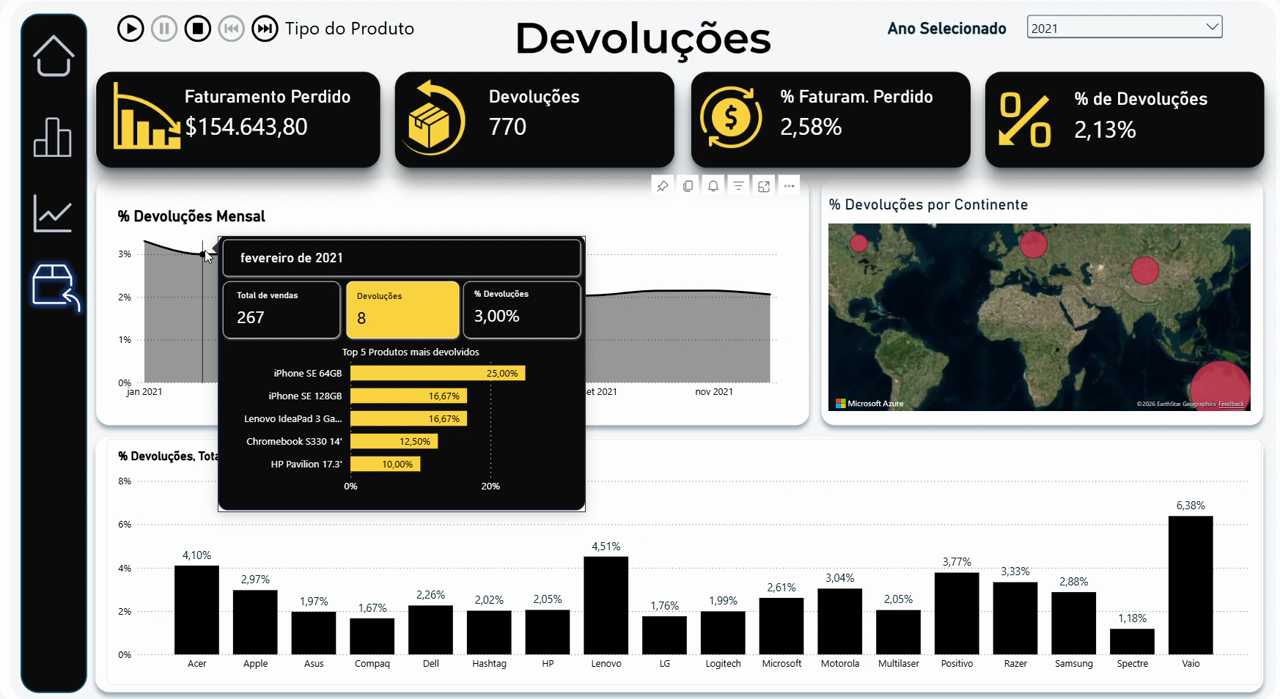

What the dashboard file says about the page in this screenshot:
{"tool":"powerbi","page":{"name":"Devoluções","canvas":[1920,1080],"ordinal":3},"visuals":[{"type":"multiRowCard","title":"Faturamento Perdido","fields":{"Values":["Medidas.Faturamento Perdido"]},"box":[262,130,300,124],"z":0},{"type":"multiRowCard","title":"Devoluções","fields":{"Values":["Sum(fDevoluções.Qtd Devolvida)"]},"box":[714,130,276,116],"z":1000},{"type":"multiRowCard","title":"% Faturam. Perdido","fields":{"Values":["Medidas.% Faturamento Perdido"]},"box":[1148,130,276,116],"z":2000},{"type":"multiRowCard","title":"% de Devoluções","fields":{"Values":["Medidas.% Devoluções"]},"box":[1586,134,276,116],"z":3000},{"type":"areaChart","title":"% Devoluções Mensal","fields":{"Category":["dCalendario.Inicio do Mês"],"Y":["Medidas.% Devoluções"]},"box":[162,310,1032,320],"z":4000},{"type":"azureMap","title":"% Devoluções por Continente","fields":{"Category":["dLojas.Continente"],"Size":["Medidas.% Devoluções"]},"box":[1220,292,660,352],"z":5000},{"type":"columnChart","fields":{"Category":["dProdutos.Marca","dProdutos.Tipo do Produto","dProdutos.Nome Produto"],"Y":["Medidas.% Devoluções"]},"box":[162,670,1718,366],"z":6000},{"type":"slicer","fields":{"Values":["dCalendario.Ano"]},"box":[1527.4,34.4,300.4,48.9],"z":7000},{"type":"textbox","box":[1324.7,43.4,199.1,30.8],"z":8000},{"type":"PBI_CV_16948668_E17D_454B_8664_2F2C470EA8C1","fields":{"category":["dProdutos.Tipo do Produto"]},"box":[162.9,5.4,483.2,108.6],"z":9000},{"type":"actionButton","box":[32.6,48.9,97.7,85.1],"z":10000},{"type":"actionButton","box":[32.6,173.7,97.7,81.4],"z":11000},{"type":"actionButton","box":[32.6,291.4,97.7,81.4],"z":12000}]}

Visuals, with their boxes on the page's 1920x1080 design canvas (x1, y1, x2, y2). These are canvas units, not pixel positions in the 1280x699 screenshot, which may show the page scaled, cropped or inside an application window:
"Faturamento Perdido" multiRowCard: [left=262, top=130, right=562, bottom=254]
"Devoluções" multiRowCard: [left=714, top=130, right=990, bottom=246]
"% Faturam. Perdido" multiRowCard: [left=1148, top=130, right=1424, bottom=246]
"% de Devoluções" multiRowCard: [left=1586, top=134, right=1862, bottom=250]
"% Devoluções Mensal" areaChart: [left=162, top=310, right=1194, bottom=630]
"% Devoluções por Continente" azureMap: [left=1220, top=292, right=1880, bottom=644]
columnChart - dProdutos.Marca x dProdutos.Tipo do Produto: [left=162, top=670, right=1880, bottom=1036]
slicer - dCalendario.Ano: [left=1527, top=34, right=1828, bottom=83]
textbox: [left=1325, top=43, right=1524, bottom=74]
PBI_CV_16948668_E17D_454B_8664_2F2C470EA8C1 - dProdutos.Tipo do Produto: [left=163, top=5, right=646, bottom=114]
actionButton: [left=33, top=49, right=130, bottom=134]
actionButton: [left=33, top=174, right=130, bottom=255]
actionButton: [left=33, top=291, right=130, bottom=373]
